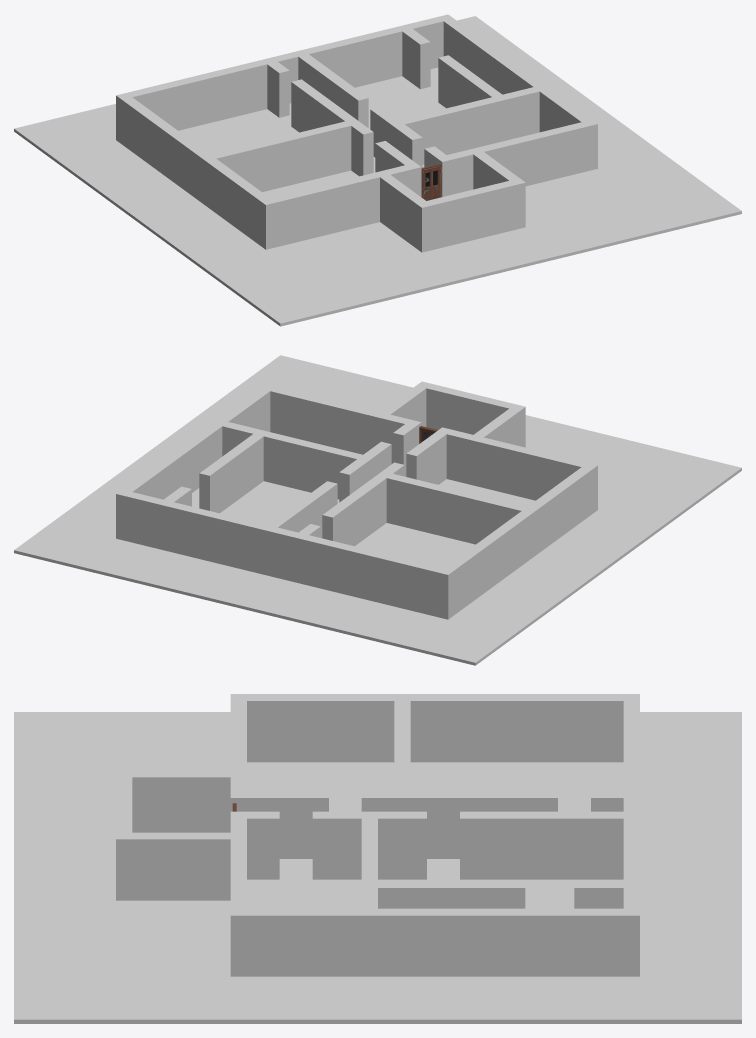
Rendered from Aftermath_Map2.glb.
The picture shows the model from 3 angles, top to bottom: view 1: azimuth 30°, elevation 25°; view 2: azimuth 150°, elevation 25°; view 3: azimuth 270°, elevation 25°; orthographic projection. The views are drawn at different scales.
Visible parts, largest first — view 1: Plane, Cube.002_Cube.000; view 2: Plane; view 3: Plane.
Part boxes in pixels (x1,y1,x2,y2): Plane: (14,14,741,326); Cube.002_Cube.000: (423,166,441,200); Plane: (14,355,741,665); Plane: (14,694,741,1023).
Size of the model in its own units: 188 by 18.56 by 188.
1 material, 1 textured.
